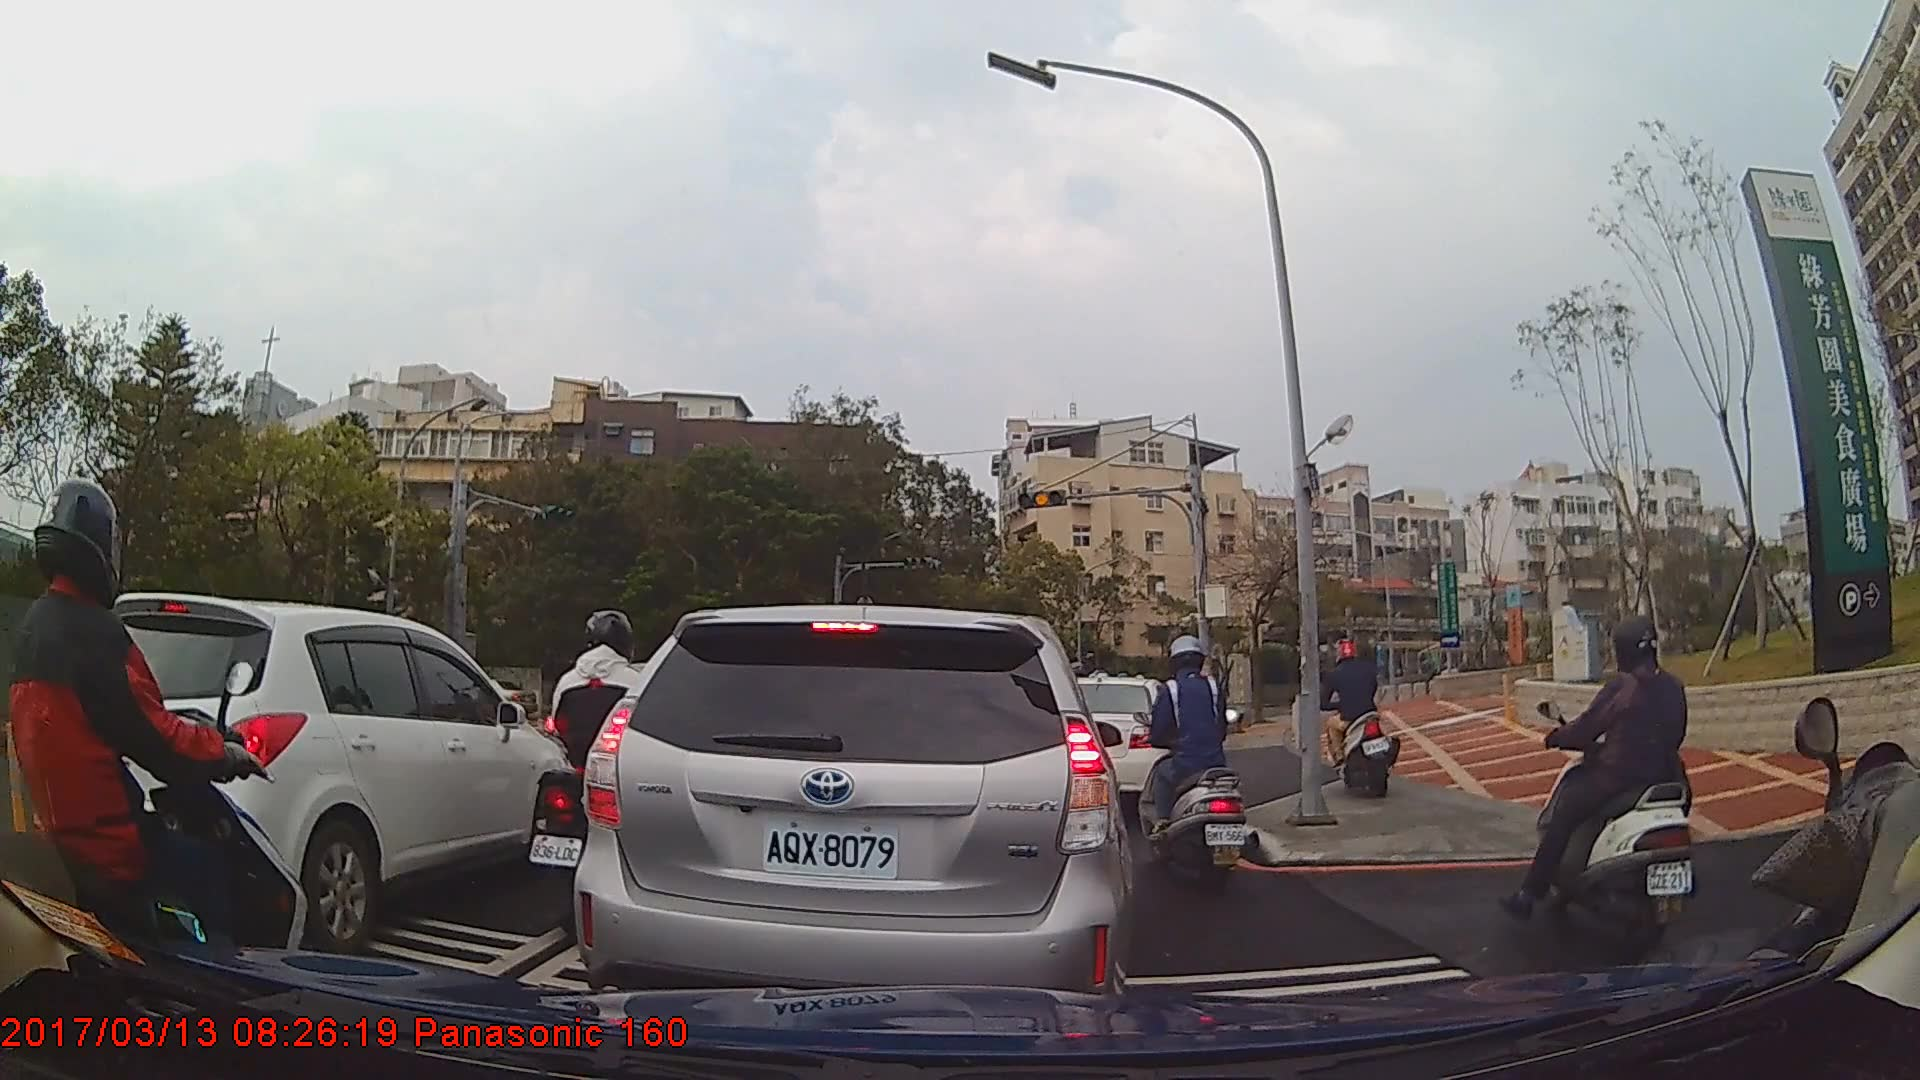rider: (1, 469, 321, 1067), (1504, 613, 1699, 937), (516, 605, 682, 920), (1137, 633, 1255, 895), (1320, 638, 1399, 809)
vehicle: (569, 601, 1134, 1015), (38, 592, 579, 961)
